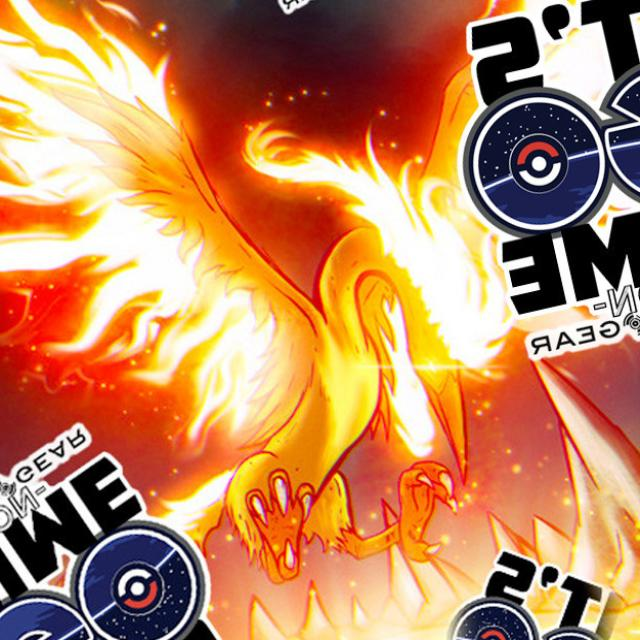Moltres: (164, 175, 497, 570)
